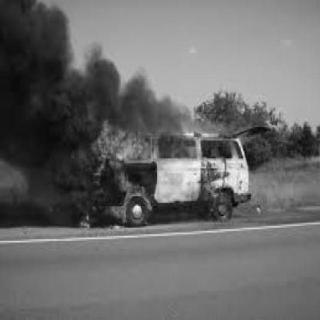Fire: (62, 101, 244, 235)
Smoke: (0, 2, 79, 152)
